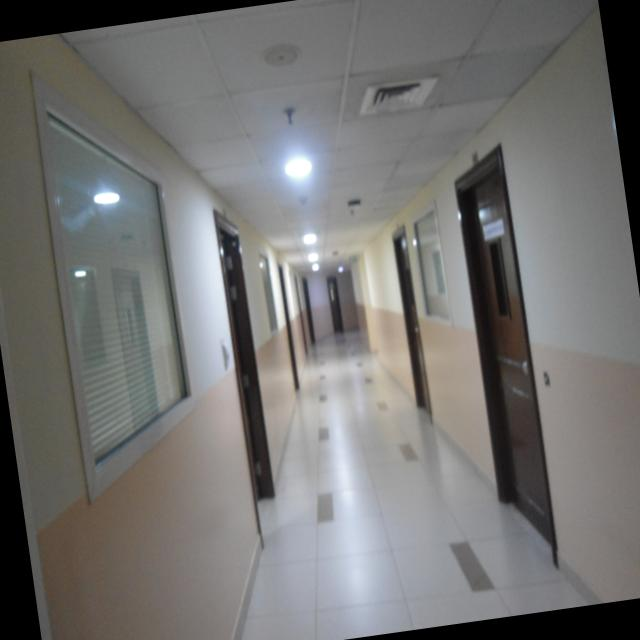door: (440, 160, 576, 538), (208, 206, 284, 530), (385, 227, 428, 406), (274, 264, 302, 395), (303, 280, 322, 358), (326, 275, 346, 333)
light: (280, 150, 312, 180), (300, 228, 319, 252), (311, 264, 320, 273), (339, 265, 346, 275)
window: (24, 62, 207, 474), (410, 213, 452, 318)
